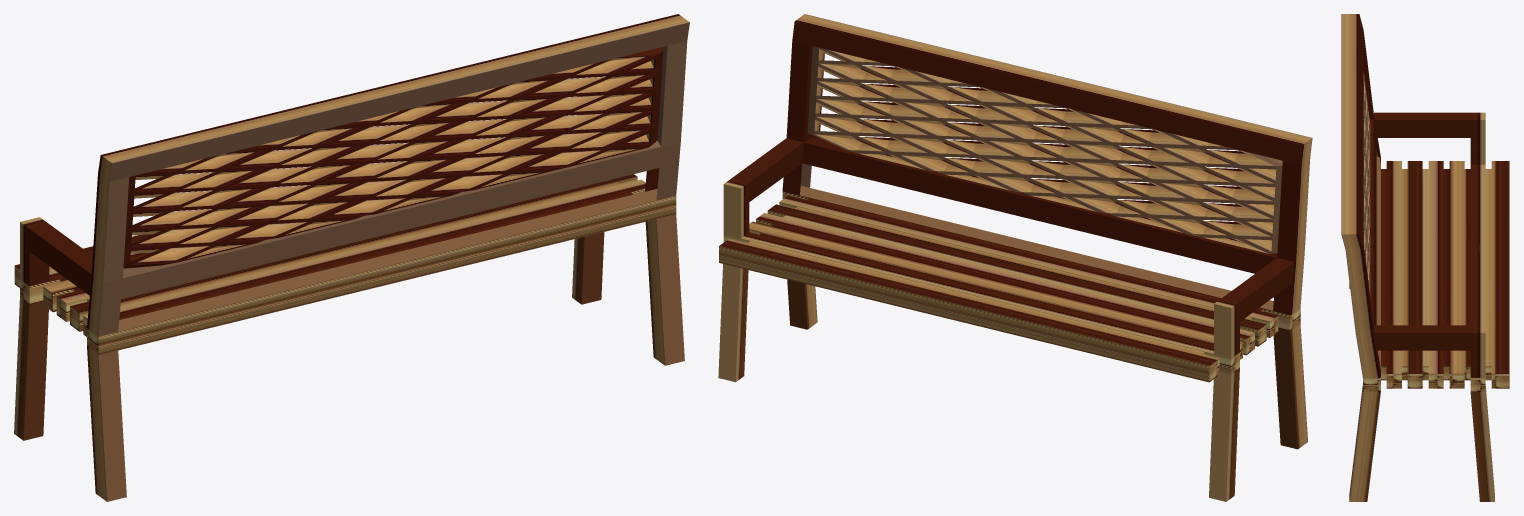
File: banca.fbx
3 views of the same model, side by side, from view 1: azimuth 30°, elevation 25°; view 2: azimuth 150°, elevation 25°; view 3: azimuth 270°, elevation 25° (orthographic). The views are drawn at different scales.
Parts seen in each view (by area): view 1: Cube; view 2: Cube; view 3: Cube.
Part boxes in pixels (x1,y1,x2,y2): Cube: (14,14,689,501); Cube: (718,14,1312,501); Cube: (1341,14,1509,501).
Size of the model in its own units: 877 by 496 by 283.
